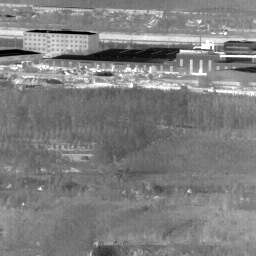aircraft: (84, 42, 86, 44)
